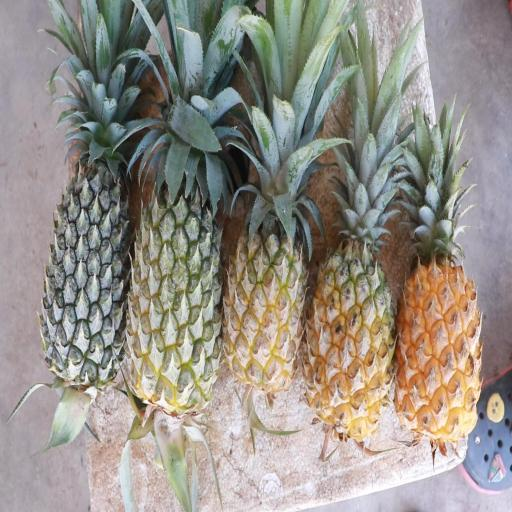------------------------------: (130, 150, 224, 416)
Pineapple - v8 v1: (305, 200, 393, 434), (396, 206, 478, 433), (222, 164, 305, 388)
